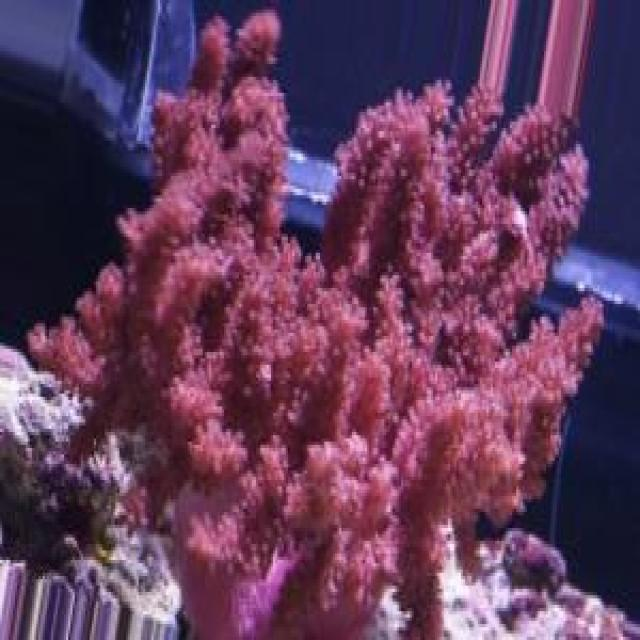healthy coral: (30, 13, 599, 638)
